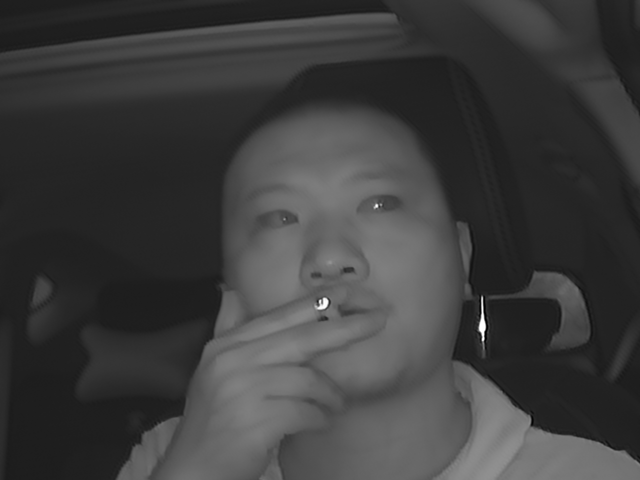hand: (233, 283, 376, 439)
